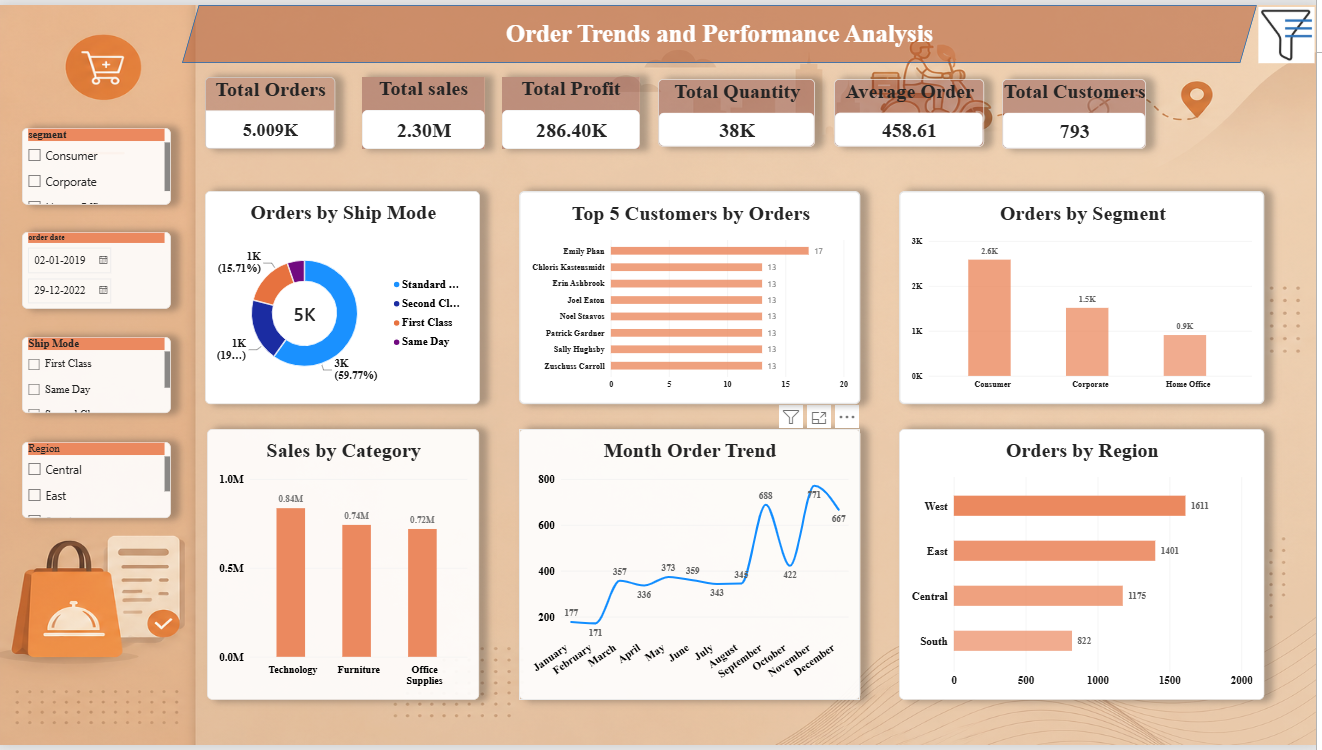

What the dashboard file says about the page in this screenshot:
{"tool":"powerbi","page":{"name":"Page 1","canvas":[1920,1080],"ordinal":0},"visuals":[{"type":"cardVisual","title":"Total Orders","fields":{"Data":["Count(Orders.order_id)"]},"box":[299.1,105,189.7,105],"z":0},{"type":"image","box":[1833.9,2.9,86.1,81.7],"z":1000},{"type":"cardVisual","title":" Total sales ","fields":{"Data":["Sum(Orders.sales)"]},"box":[528.1,105,179.5,105],"z":2000},{"type":"cardVisual","title":"Total Profit ","fields":{"Data":["Sum(Orders.profit)"]},"box":[732.4,105,201.3,105],"z":3000},{"type":"cardVisual","title":"Total Quantity ","fields":{"Data":["Sum(Orders.quantity)"]},"box":[960,108,229.1,99.2],"z":4000},{"type":"lineChart","title":"Month  Order Trend","fields":{"Category":["Orders.order_date.Variation.Date Hierarchy.Month"],"Y":["Orders.total_order"]},"box":[757.2,618.6,497.5,395.4],"z":5000},{"type":"clusteredColumnChart","title":"Sales by Category ","fields":{"Category":["Orders.category"],"Y":["Sum(Orders.sales)"]},"box":[302,618.6,396.8,395.4],"z":6000},{"type":"cardVisual","title":"Total Customers","fields":{"Data":["Orders.total_customer"]},"box":[1461.9,108,210.1,102.1],"z":7000},{"type":"cardVisual","title":"Average Order","fields":{"Data":["Orders.average_order"]},"box":[1216.8,108,218.8,99.2],"z":8000},{"type":"donutChart","title":" Orders by Ship Mode","fields":{"Category":["Orders.ship_mode"],"Y":["Orders.total_order"]},"box":[299.1,271.4,401.2,310.8],"z":10000},{"type":"clusteredBarChart","title":" Orders by Region","fields":{"Category":["Orders.region"],"Y":["Orders.total_order"]},"box":[1311.6,618.6,532.5,395.4],"z":11000},{"type":"shape","box":[265.5,0,1568.4,84.6],"z":12000},{"type":"clusteredBarChart","title":"Top 5 Customers by Orders","fields":{"Category":["Orders.customer_name"],"Y":["Orders.total_order"]},"box":[757.2,271.4,497.5,310.8],"z":12001},{"type":"clusteredColumnChart","title":"Orders by Segment ","fields":{"Category":["Orders.segment"],"Y":["Orders.total_order"]},"box":[1311.6,271.4,532.5,310.8],"z":12002},{"type":"slicer","fields":{"Values":["Orders.ship_mode"]},"box":[32.1,484.4,217.4,110.9],"z":12003},{"type":"slicer","fields":{"Values":["Orders.region"]},"box":[32.1,637.6,217.4,110.9],"z":12004},{"type":"slicer","fields":{"Values":["Orders.order_date"]},"box":[32.1,331.2,217.4,112.3],"z":12005},{"type":"slicer","fields":{"Values":["Orders.segment"]},"box":[32.1,179.5,217.4,112.3],"z":12006}]}

Visuals, with their boxes in screenshot pixels (x1, y1, x2, y2), scaled from the page's 1920x1080 canvas onto the 1322x750 screenshot:
"Total Orders" cardVisual: region(206, 73, 337, 146)
image: region(1263, 2, 1321, 59)
" Total sales " cardVisual: region(364, 73, 487, 146)
"Total Profit " cardVisual: region(504, 73, 643, 146)
"Total Quantity " cardVisual: region(661, 75, 819, 144)
"Month  Order Trend" lineChart: region(521, 430, 864, 704)
"Sales by Category " clusteredColumnChart: region(208, 430, 481, 704)
"Total Customers" cardVisual: region(1007, 75, 1151, 146)
"Average Order" cardVisual: region(838, 75, 988, 144)
" Orders by Ship Mode" donutChart: region(206, 188, 482, 404)
" Orders by Region" clusteredBarChart: region(903, 430, 1270, 704)
shape: region(183, 0, 1263, 59)
"Top 5 Customers by Orders" clusteredBarChart: region(521, 188, 864, 404)
"Orders by Segment " clusteredColumnChart: region(903, 188, 1270, 404)
slicer - Orders.ship_mode: region(22, 336, 172, 413)
slicer - Orders.region: region(22, 443, 172, 520)
slicer - Orders.order_date: region(22, 230, 172, 308)
slicer - Orders.segment: region(22, 125, 172, 203)
